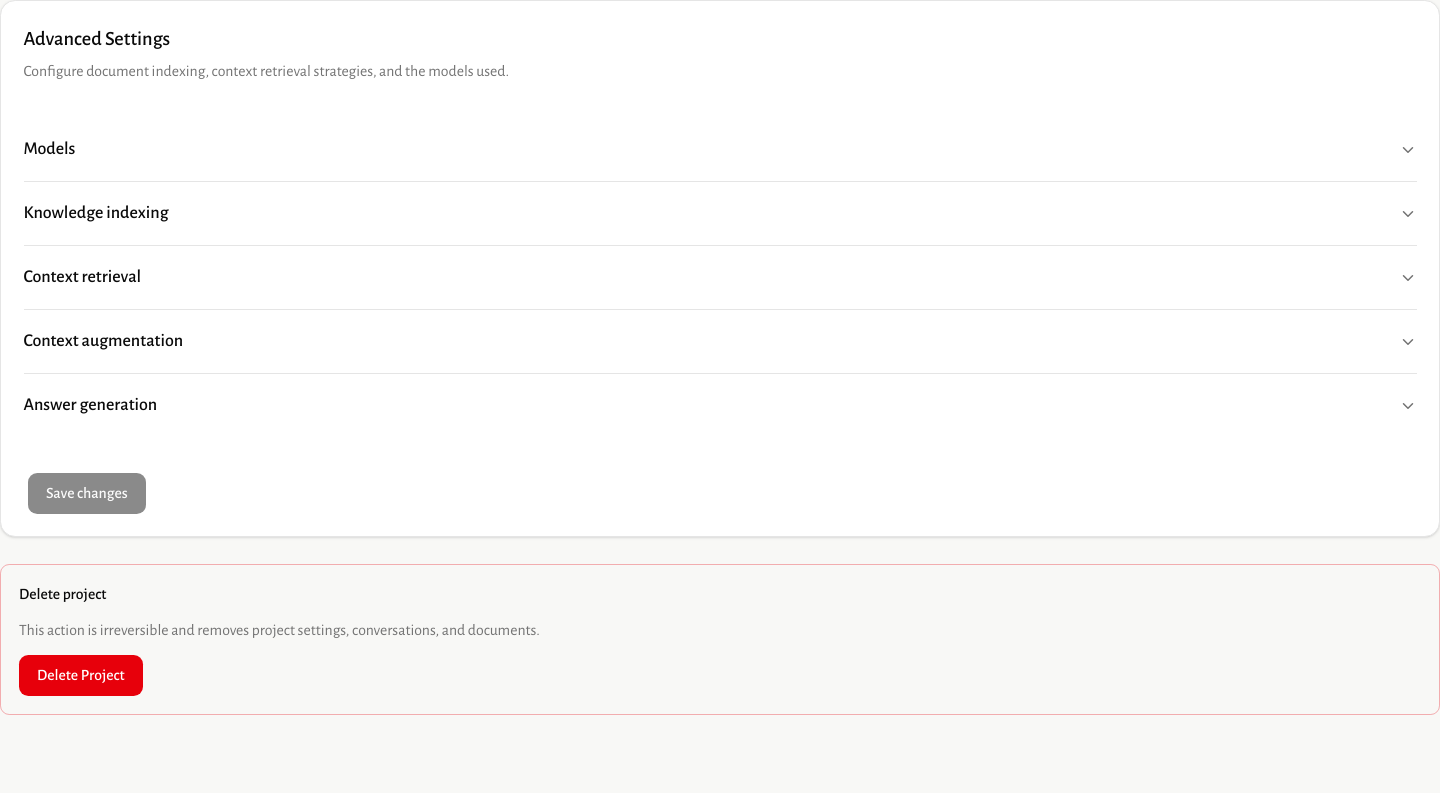
Test: ProjectAdvancedPanel – field values inheritance › Models — Embedding backend inherited label › shows Default (Gemini) when no inherited config and system default is gemini
Click the button "Models".
click(49, 149)  # box top-left (24, 118), bottom-right (1416, 181)
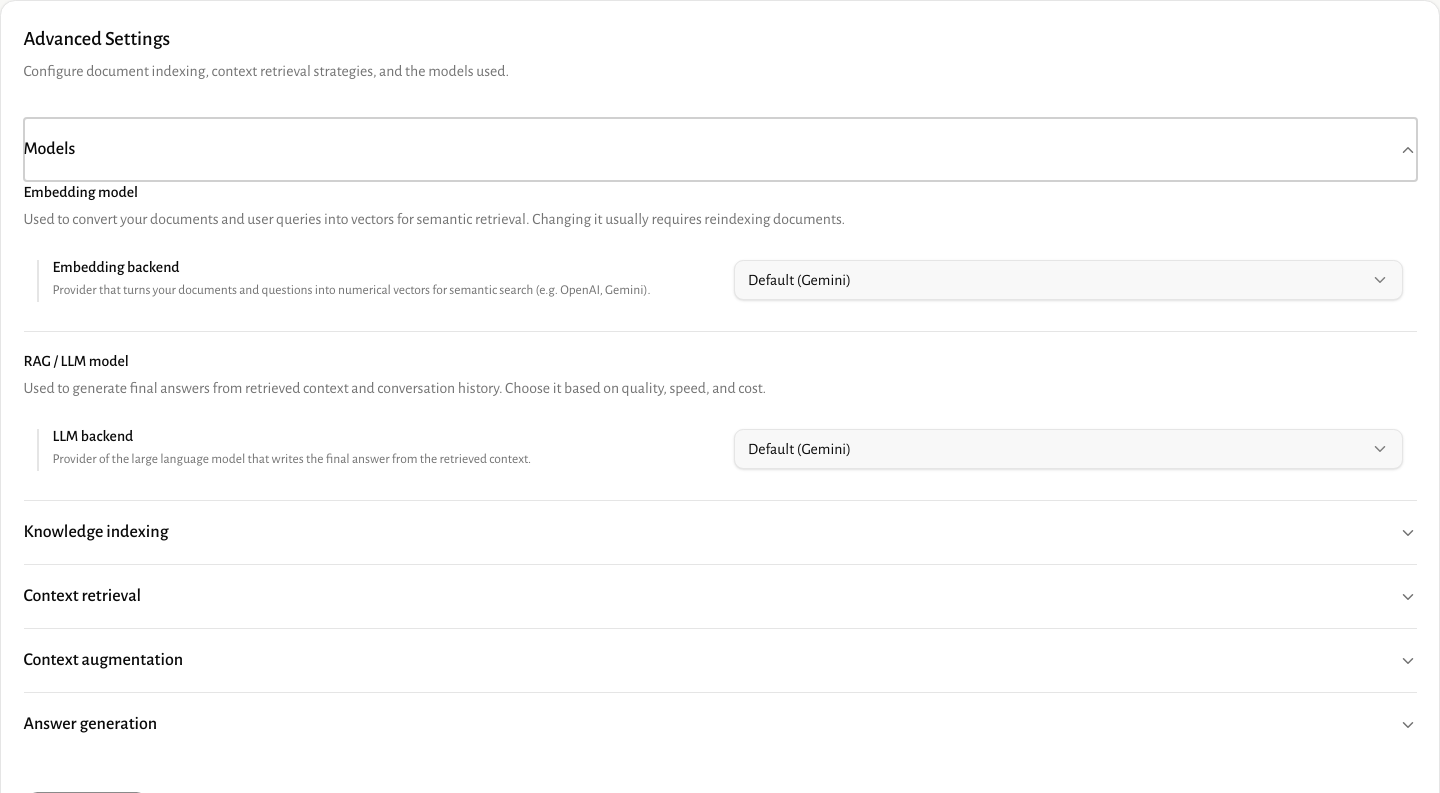
Expected: the text "Default (Gemini)" in the row of "Embedding backend" is shown, top-left (748, 272), bottom-right (851, 288)
